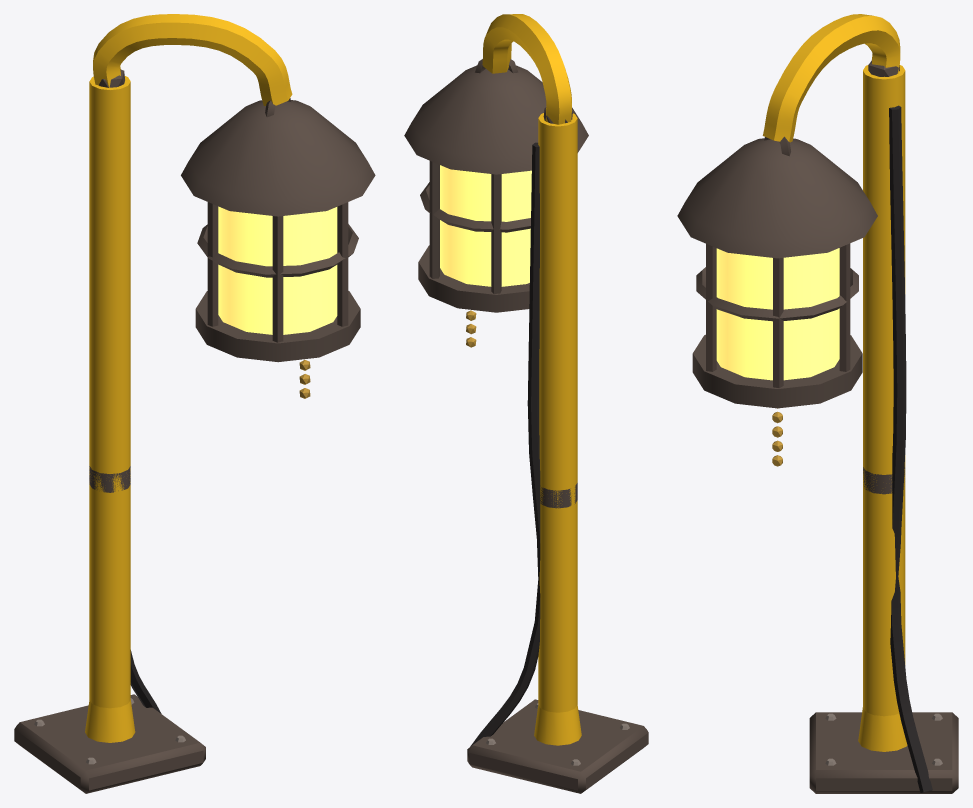
The model's file is lamp__upper.glb.
3 renders of one model, left to right at view 1: azimuth 30°, elevation 25°; view 2: azimuth 150°, elevation 25°; view 3: azimuth 270°, elevation 25°, orthographic. The views are drawn at different scales.
Visible parts, largest first — view 1: Body; view 2: Body; view 3: Body.
Part boxes in pixels (bbox=[...]): Body: bbox=[14, 14, 375, 793]; Body: bbox=[404, 14, 648, 793]; Body: bbox=[677, 14, 958, 793].
Bounding box in the file's own units: 0.5885 × 1.59 × 0.5285.
